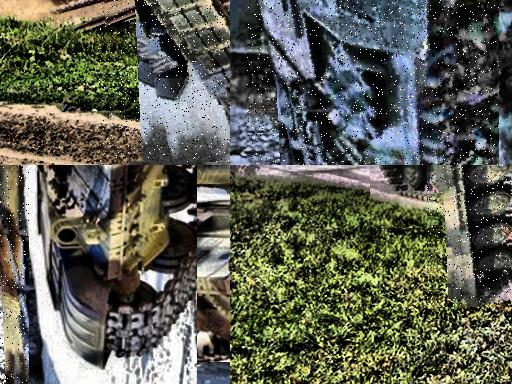tanks: (255, 1, 500, 166), (39, 166, 198, 365), (135, 1, 231, 124), (434, 166, 512, 307), (1, 196, 29, 384)
